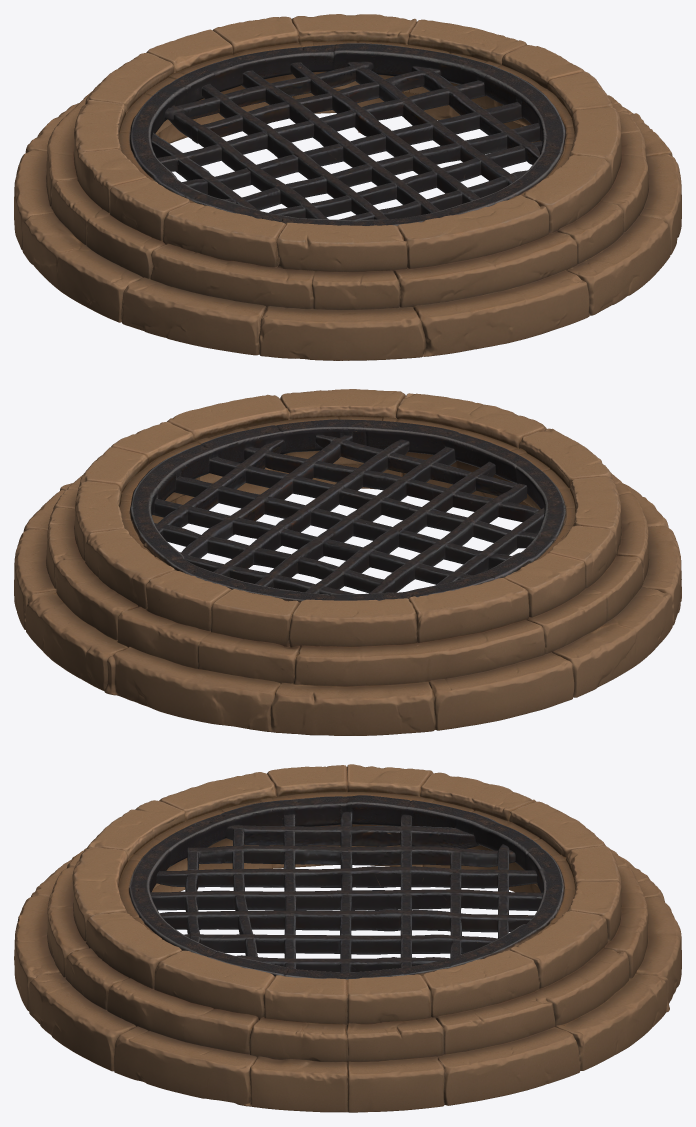
File: fire_grate_high.glb
3 renders of one model, top to bottom at view 1: azimuth 30°, elevation 25°; view 2: azimuth 150°, elevation 25°; view 3: azimuth 270°, elevation 25°, orthographic.
Bounding box in the file's own units: 1.9 × 0.2901 × 1.9.
1 material, 1 textured.
